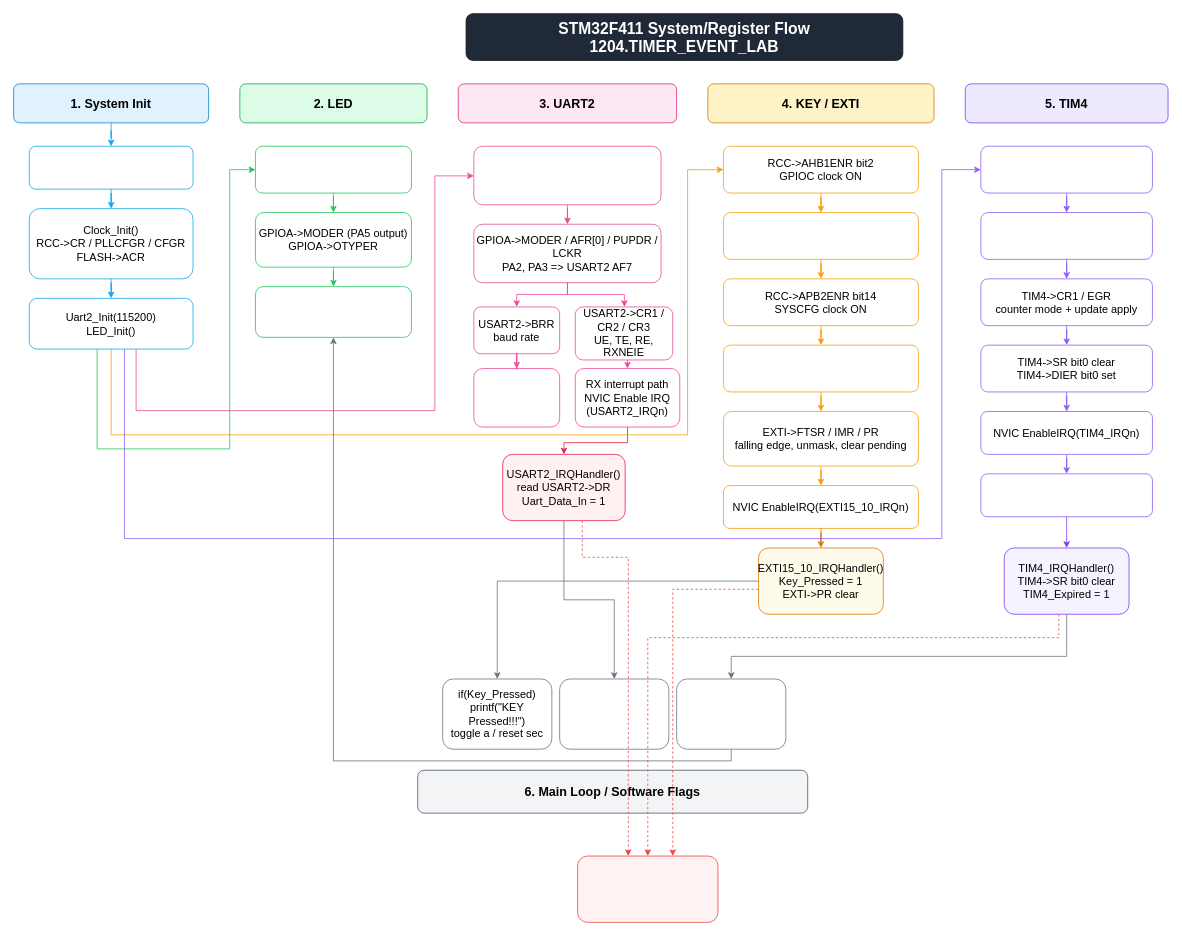
The diagram is 1182 pixels wide and 936 high, and some of its shapes have lost their labels. Here are the shapes that lost their labels. From the top down, the centre of each, then its label:
(x=110, y=167): SCB->CPACR FPU enable
(x=333, y=169): RCC->AHB1ENR bit0 GPIOA clock ON
(x=567, y=175): RCC->AHB1ENR bit0 RCC->APB1ENR bit17 GPIOA + USART2 clock ON
(x=1066, y=169): RCC->APB1ENR bit2 TIM4 clock ON
(x=820, y=235): GPIOC->MODER PC13 input
(x=1066, y=235): TIM4->PSC / ARR time base set
(x=333, y=311): GPIOA->ODR bit5 LED_On / LED_Off
(x=820, y=368): SYSCFG->EXTICR[3] EXTI13 => PC13
(x=516, y=397): TX path USART2->SR(TXE) USART2->DR
(x=1066, y=495): TIM4->CR1 bit0 set timer start
(x=614, y=713): if(Uart_Data_In) printf("RX Data = %c") clear flag
(x=731, y=713): if(TIM4_Expired) LED toggle tick++ / sec++
(x=647, y=888): ISR rule clear HW pending set SW flag return fast
